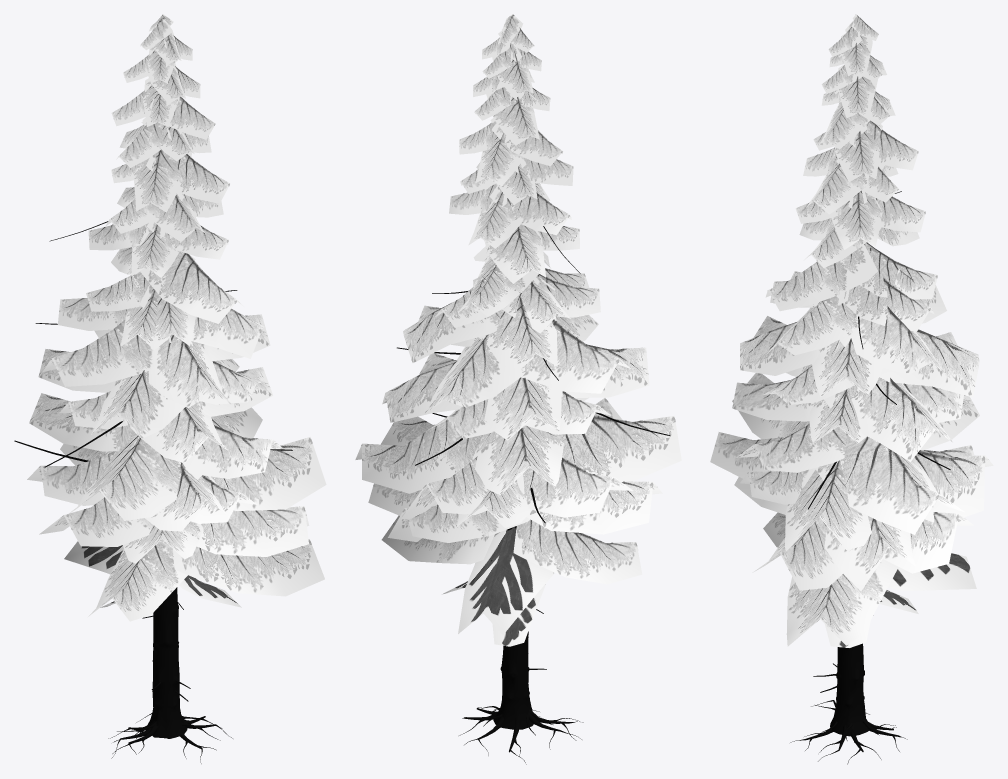
The model's file is Spruce_Tree_1.fbx.
3 views of the same model, side by side, from view 1: azimuth 30°, elevation 25°; view 2: azimuth 150°, elevation 25°; view 3: azimuth 270°, elevation 25° (orthographic).
Parts seen in each view (by area): view 1: Spruce_Tree_V3_LOD0; view 2: Spruce_Tree_V3_LOD0; view 3: Spruce_Tree_V3_LOD0.
Boxes of the visible parts, x1,y1,x2,y2 form: Spruce_Tree_V3_LOD0: (14, 14, 326, 763); Spruce_Tree_V3_LOD0: (355, 14, 681, 764); Spruce_Tree_V3_LOD0: (710, 14, 993, 764).
Size of what is drawn, in the model's own units: 400 by 1013 by 356.
